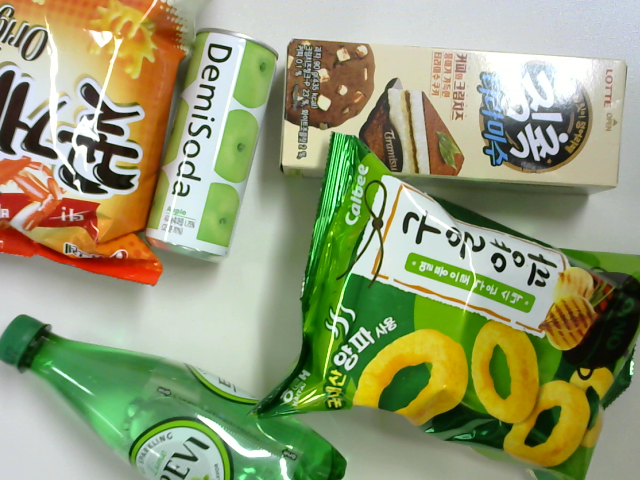Chicchok_Tiramisu: (279, 36, 625, 186)
Crabrang: (3, 6, 181, 280)
Demisoda_Apple_Can_250ml: (149, 26, 279, 262)
Grilled_Onions: (269, 138, 636, 480)
Treviraim_500ml: (7, 308, 345, 480)
